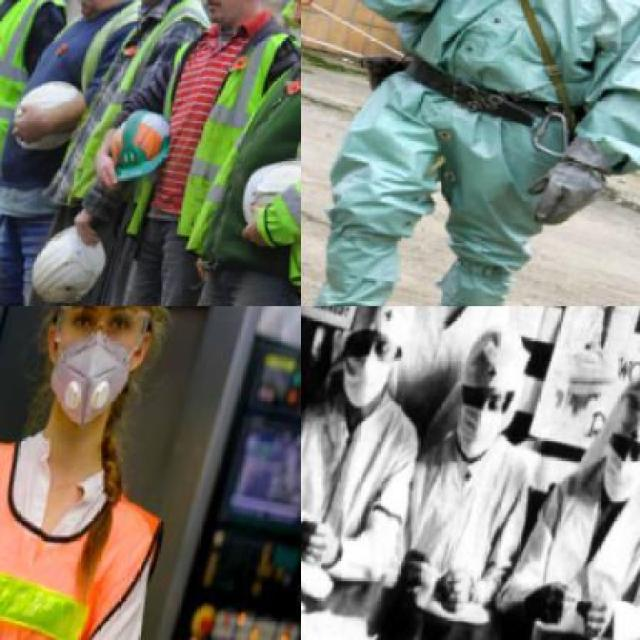Vest: (311, 0, 638, 305), (128, 0, 298, 265), (0, 417, 186, 638), (63, 0, 226, 231), (195, 16, 298, 304), (0, 0, 74, 188)
